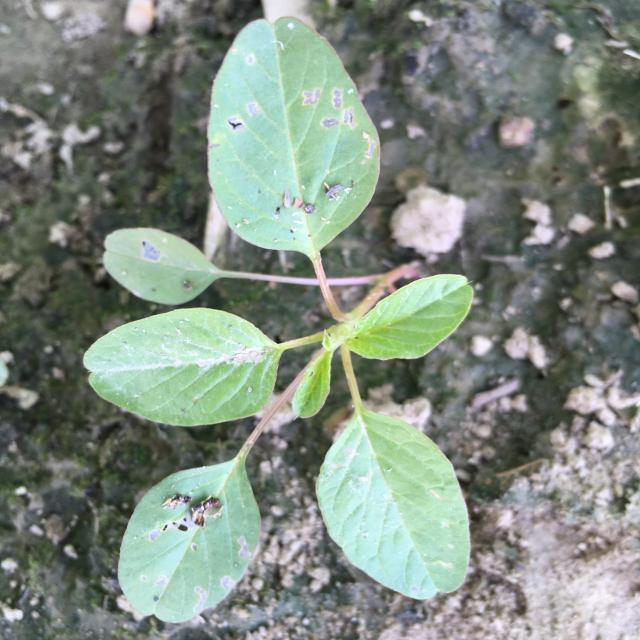PalmerAmaranth: (83, 16, 474, 623)
